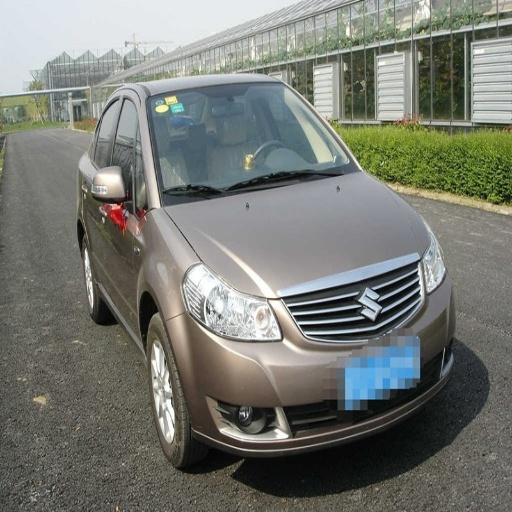front_bumper: (169, 294, 449, 454)
front_right_door: (93, 92, 142, 309)
front_right_light: (183, 262, 282, 340)
